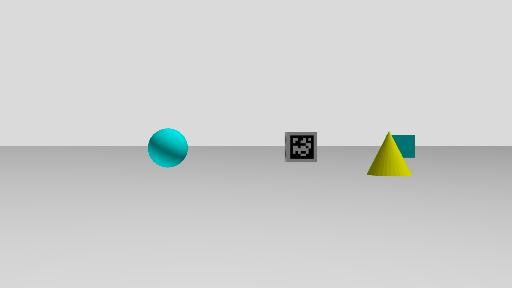yellow_cone: (365, 129, 413, 177)
